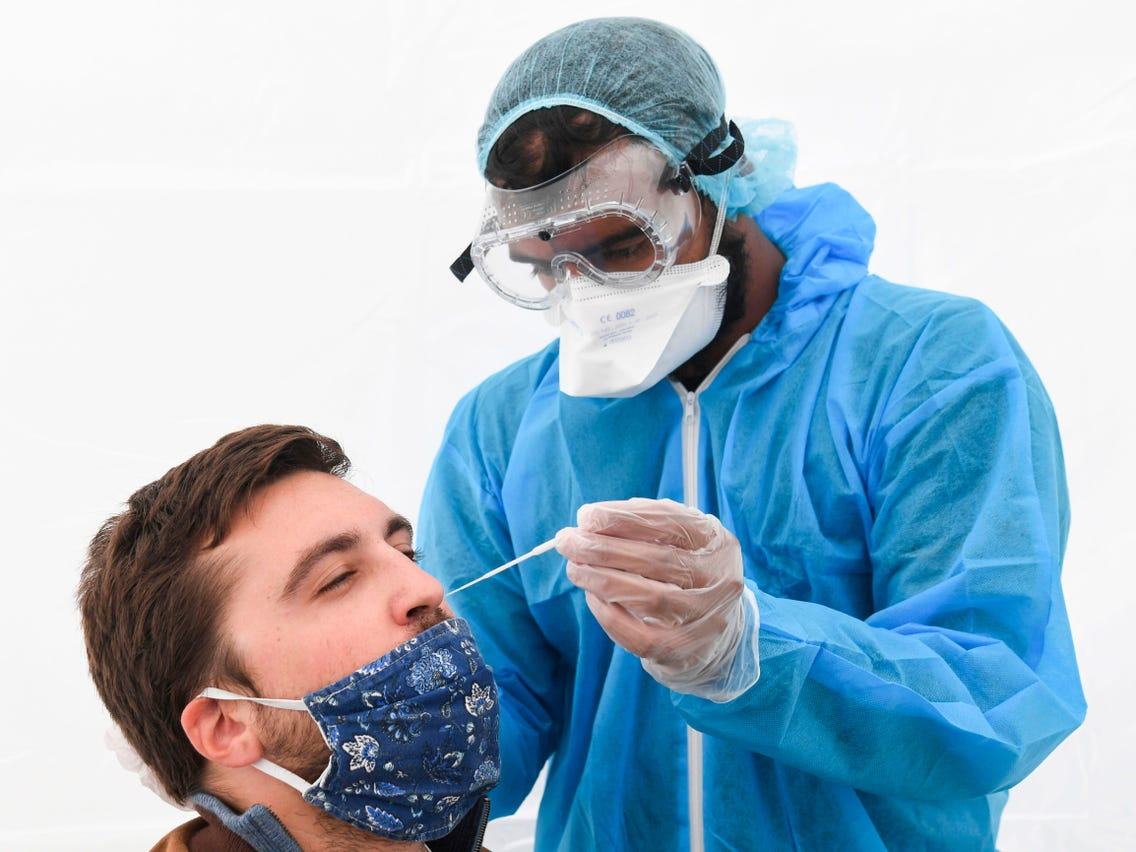Coverall: (398, 257, 1093, 852)
Gloves: (553, 494, 765, 696)
Goggles: (459, 139, 709, 313)
mask_weared_incorrect: (275, 519, 498, 841)
with_mask: (534, 232, 727, 400)
